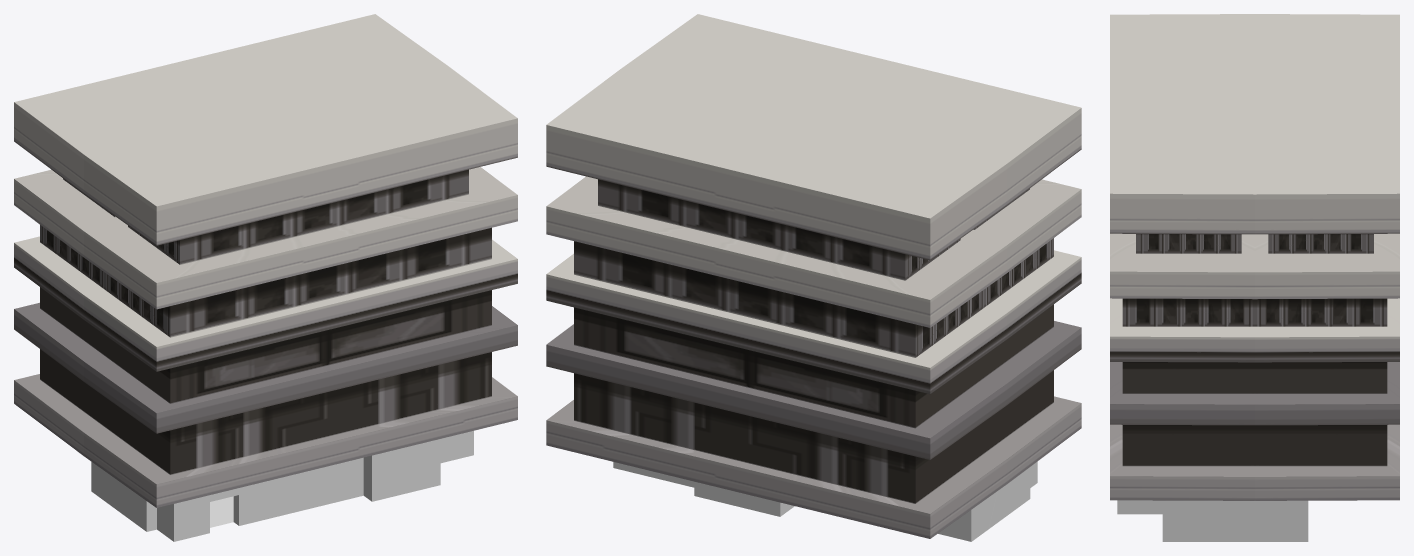
File: shangrila.fbx
3 views of the same model, side by side, from view 1: azimuth 30°, elevation 25°; view 2: azimuth 150°, elevation 25°; view 3: azimuth 270°, elevation 25° (orthographic). The views are drawn at different scales.
Visible parts, largest first — view 1: Building.001, shangria; view 2: Building.001, shangria; view 3: Building.001, shangria.
Part boxes in pixels (x1=…): Building.001: x1=14, y1=14, x2=517, y2=507; shangria: x1=91, y1=430, x2=473, y2=541; Building.001: x1=546, y1=14, x2=1081, y2=538; shangria: x1=613, y1=461, x2=1037, y2=541; Building.001: x1=1110, y1=14, x2=1399, y2=500; shangria: x1=1117, y1=500, x2=1308, y2=541.
Bounding box in the file's own units: 2037 × 1880 × 1382.
